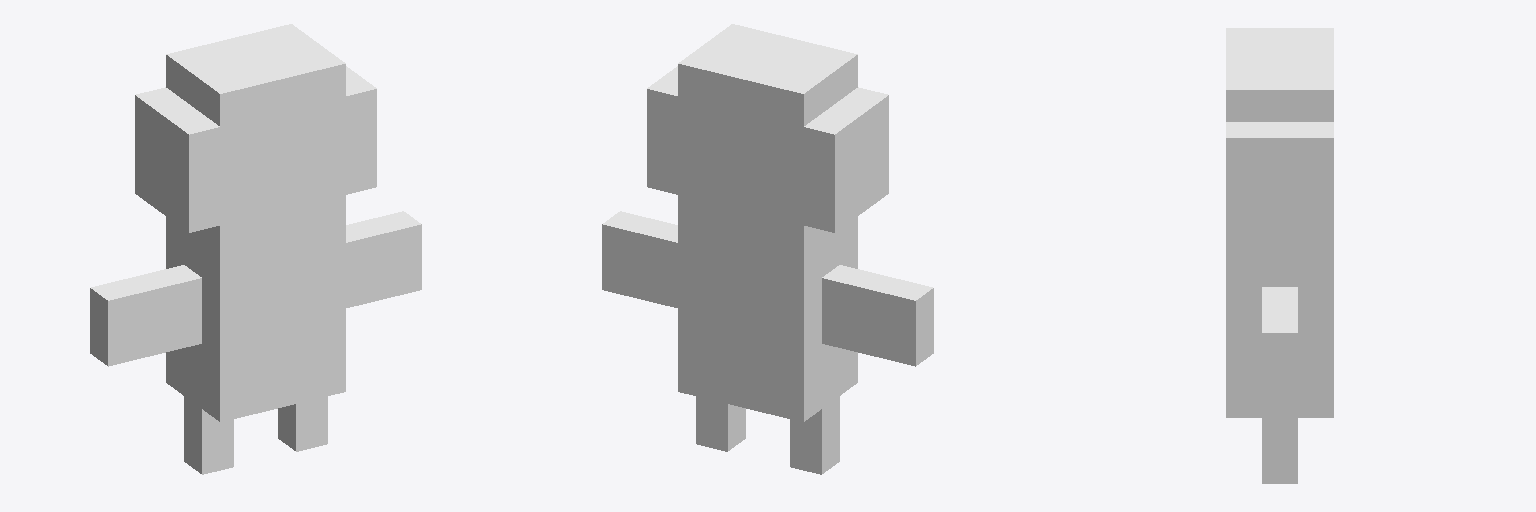
File: chara_Vigile1Tpose2.obj
3 renders of one model, left to right at view 1: azimuth 30°, elevation 25°; view 2: azimuth 150°, elevation 25°; view 3: azimuth 270°, elevation 25°, orthographic.
Visible parts, largest first — view 1: object 1; view 2: object 1; view 3: object 1.
Boxes of the visible parts, x1=… form: object 1: x1=90, y1=24, x2=421, y2=474; object 1: x1=602, y1=24, x2=933, y2=474; object 1: x1=1226, y1=28, x2=1333, y2=483.
Size of the model in its own units: 1 by 1.2 by 0.3.